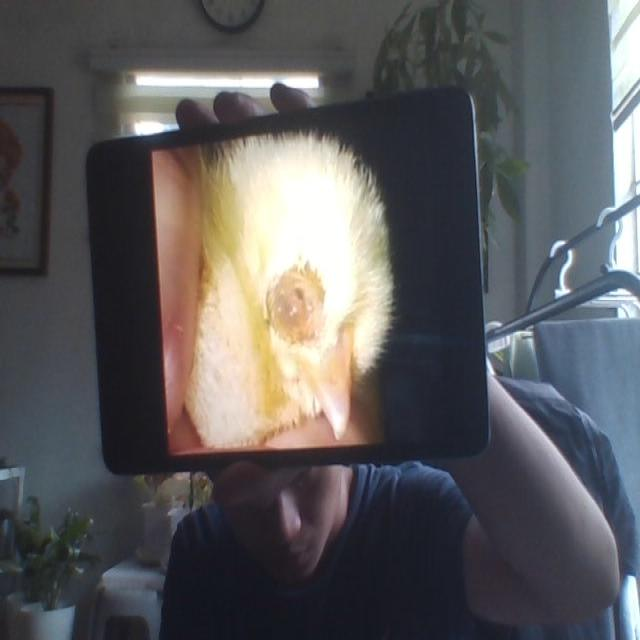Sick: (186, 139, 392, 441)
